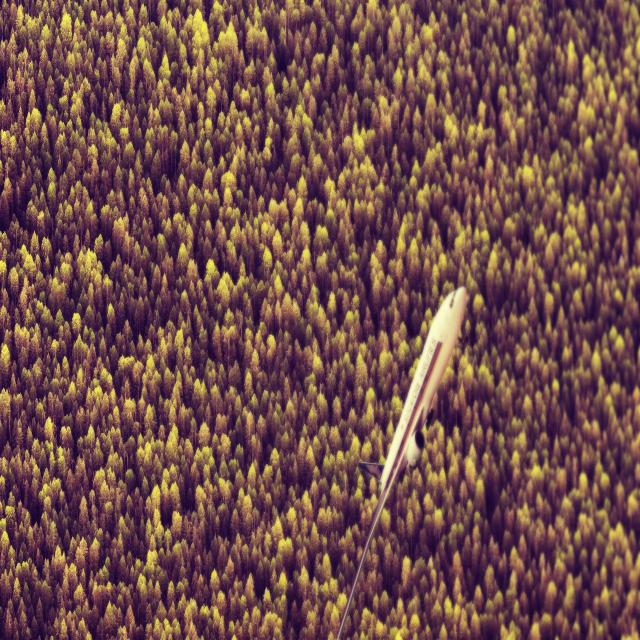airplane: (336, 284, 468, 638)
